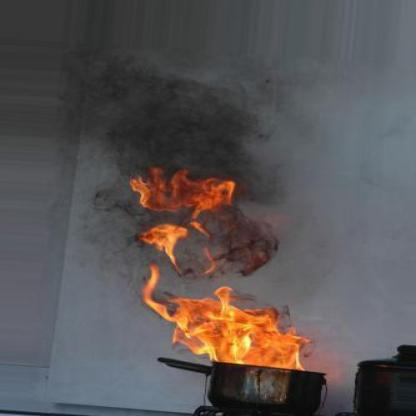fire: (114, 164, 312, 370)
